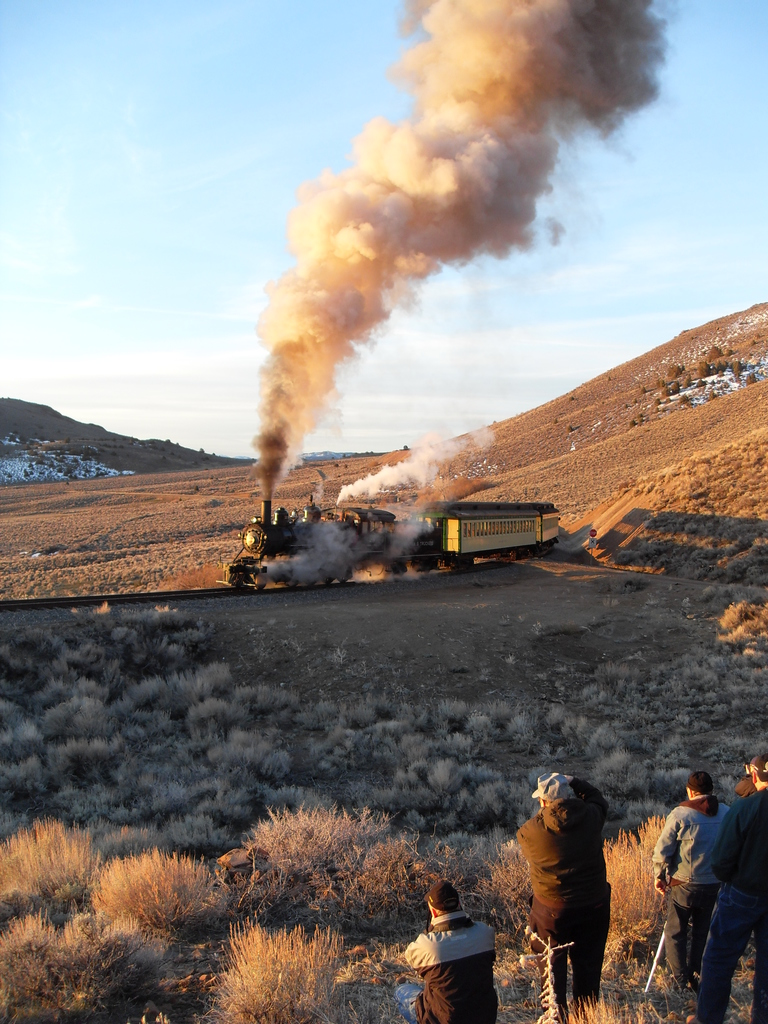train: (224, 496, 563, 593)
